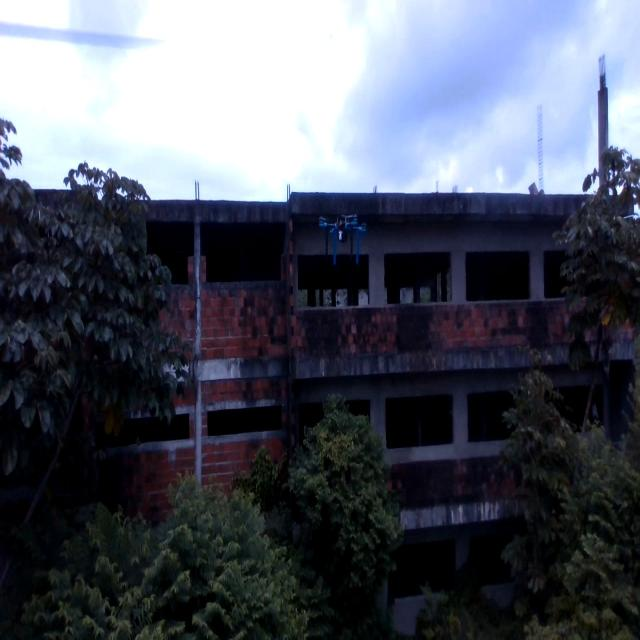-uav-: (312, 206, 382, 278)
